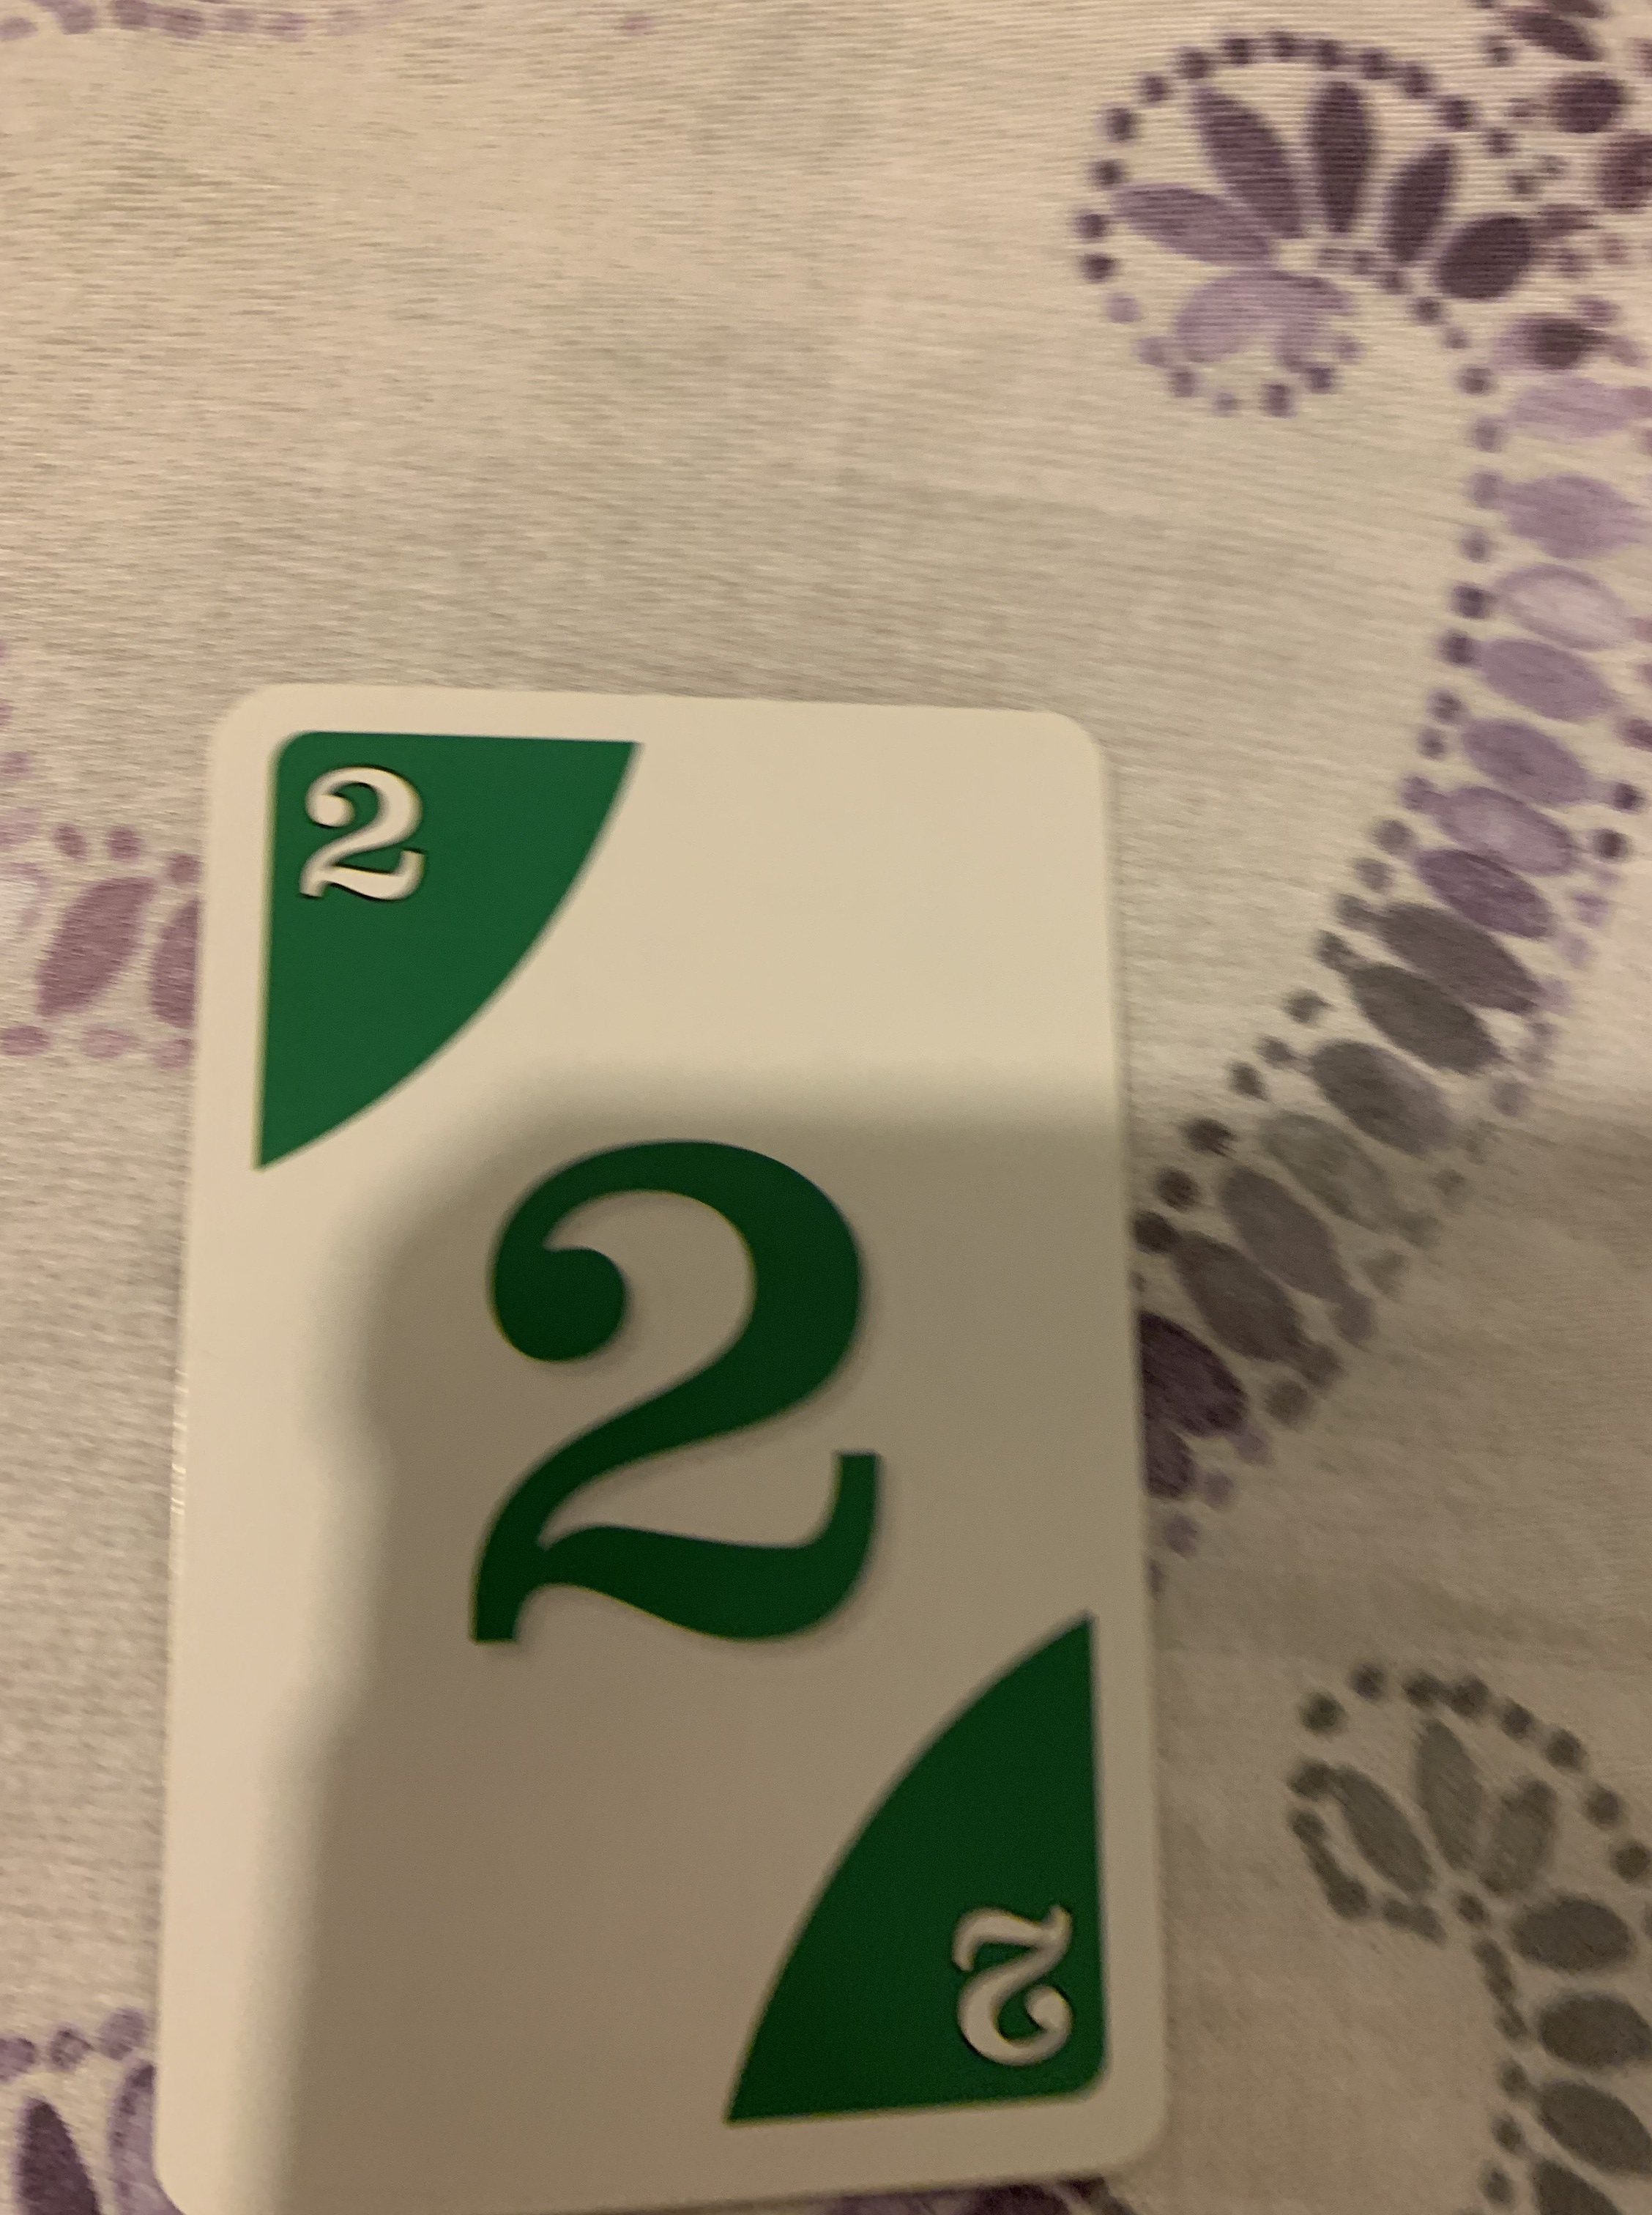two: (160, 675, 1168, 2215)
